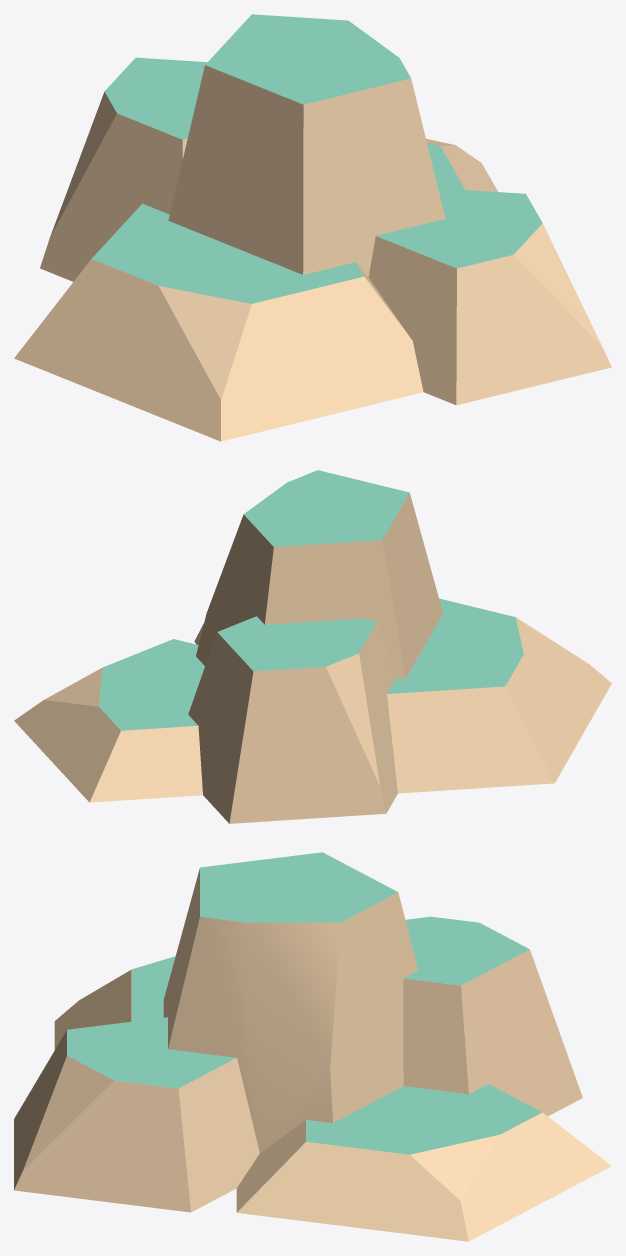
File: detail_dirtLarge.glb
The picture shows the model from 3 angles, top to bottom: view 1: azimuth 30°, elevation 25°; view 2: azimuth 150°, elevation 25°; view 3: azimuth 270°, elevation 25°; orthographic projection. The views are drawn at different scales.
Parts seen in each view (by area): view 1: detail_dirtLarge; view 2: detail_dirtLarge; view 3: detail_dirtLarge.
Boxes of the visible parts, x1,y1,x2,y2 form: detail_dirtLarge: (14, 14, 611, 441); detail_dirtLarge: (14, 470, 611, 823); detail_dirtLarge: (14, 852, 611, 1241).
Bounding box in the file's own units: 1 × 0.4186 × 1.
